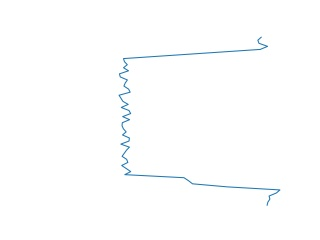distributaryChannelFill: (115, 36, 283, 207)
